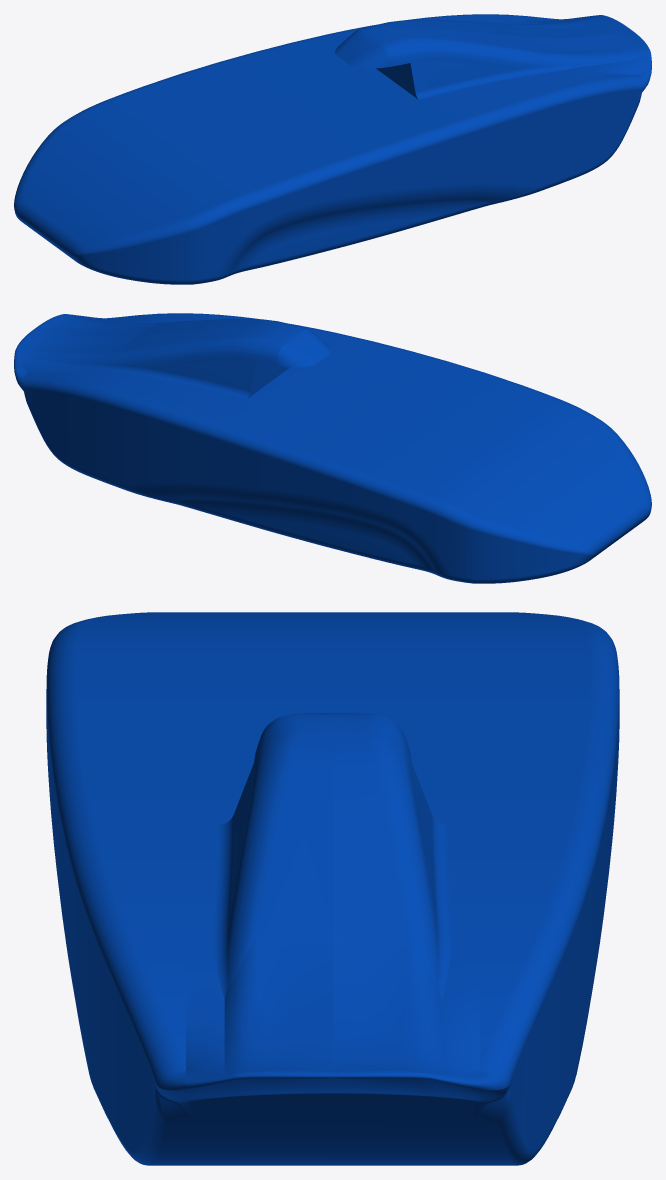
Rendered from medal.gltf.
The picture shows the model from 3 angles, top to bottom: view 1: azimuth 30°, elevation 25°; view 2: azimuth 150°, elevation 25°; view 3: azimuth 270°, elevation 25°; orthographic projection. The views are drawn at different scales.
Visible parts, largest first — view 1: SolarCarNarrowBodyChanged - Copy; view 2: SolarCarNarrowBodyChanged - Copy; view 3: SolarCarNarrowBodyChanged - Copy.
Boxes of the visible parts, <box> form: SolarCarNarrowBodyChanged - Copy: <box>14,14,651,284</box>; SolarCarNarrowBodyChanged - Copy: <box>14,313,651,583</box>; SolarCarNarrowBodyChanged - Copy: <box>46,612,619,1165</box>.
Bounding box in the file's own units: 4.12 × 0.9415 × 1.75.
